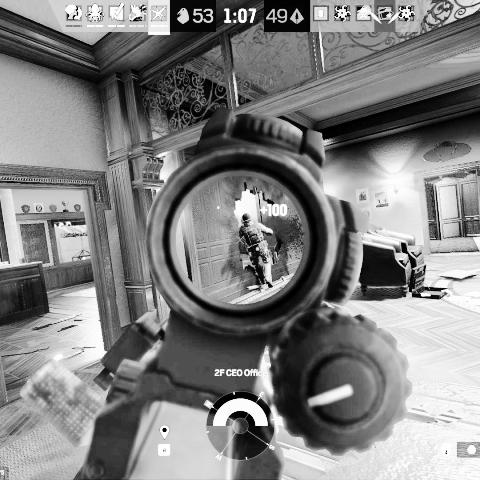Character: (237, 212, 274, 291)
Head: (242, 213, 252, 225)
